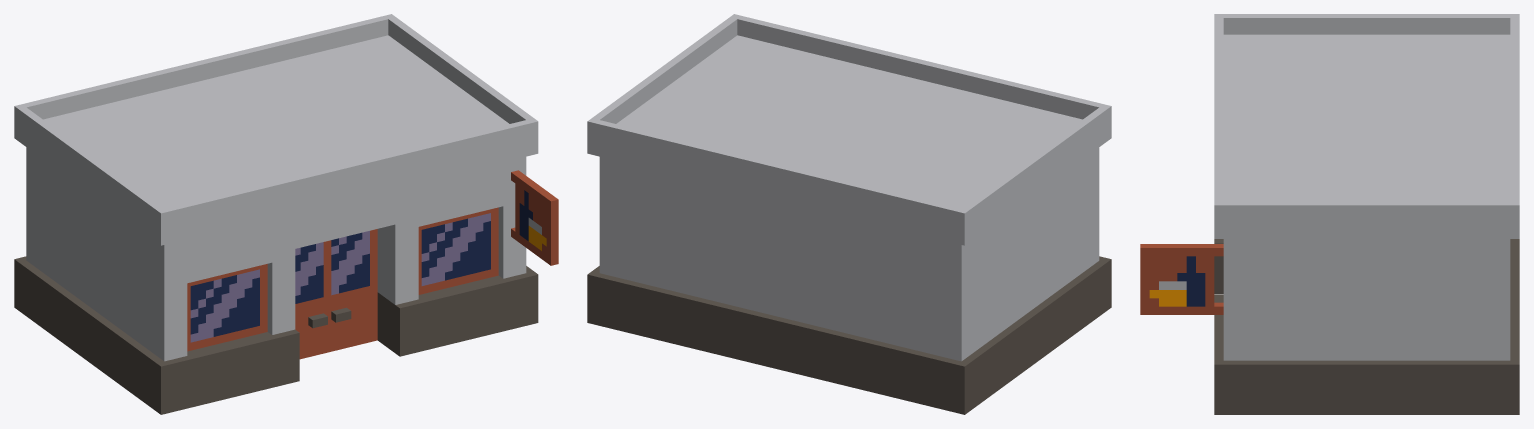
File: pub_b.obj
3 renders of one model, left to right at view 1: azimuth 30°, elevation 25°; view 2: azimuth 150°, elevation 25°; view 3: azimuth 270°, elevation 25°, orthographic. The views are drawn at different scales.
Size of the model in its own units: 4.9 by 2.5 by 4.1.
1 material, 1 textured.
